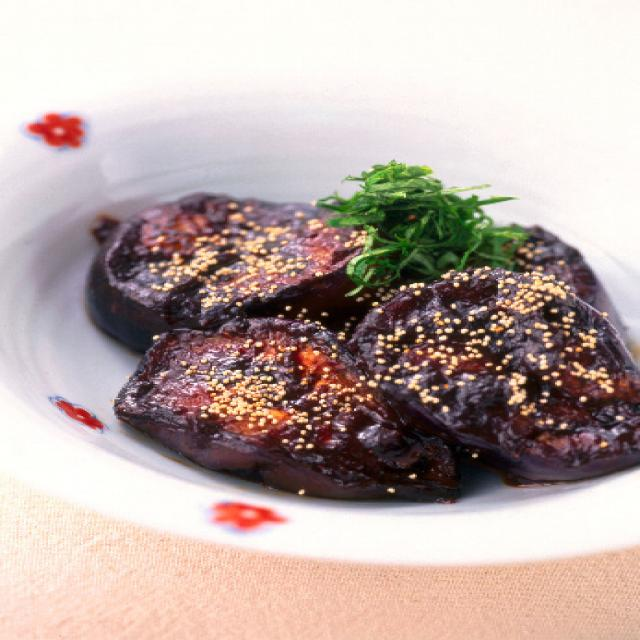鸡蛋料理: (62, 160, 640, 505)
